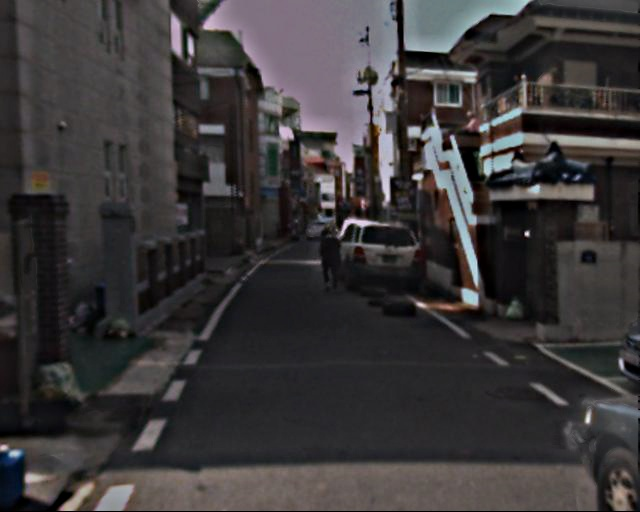person: (316, 224, 346, 297)
